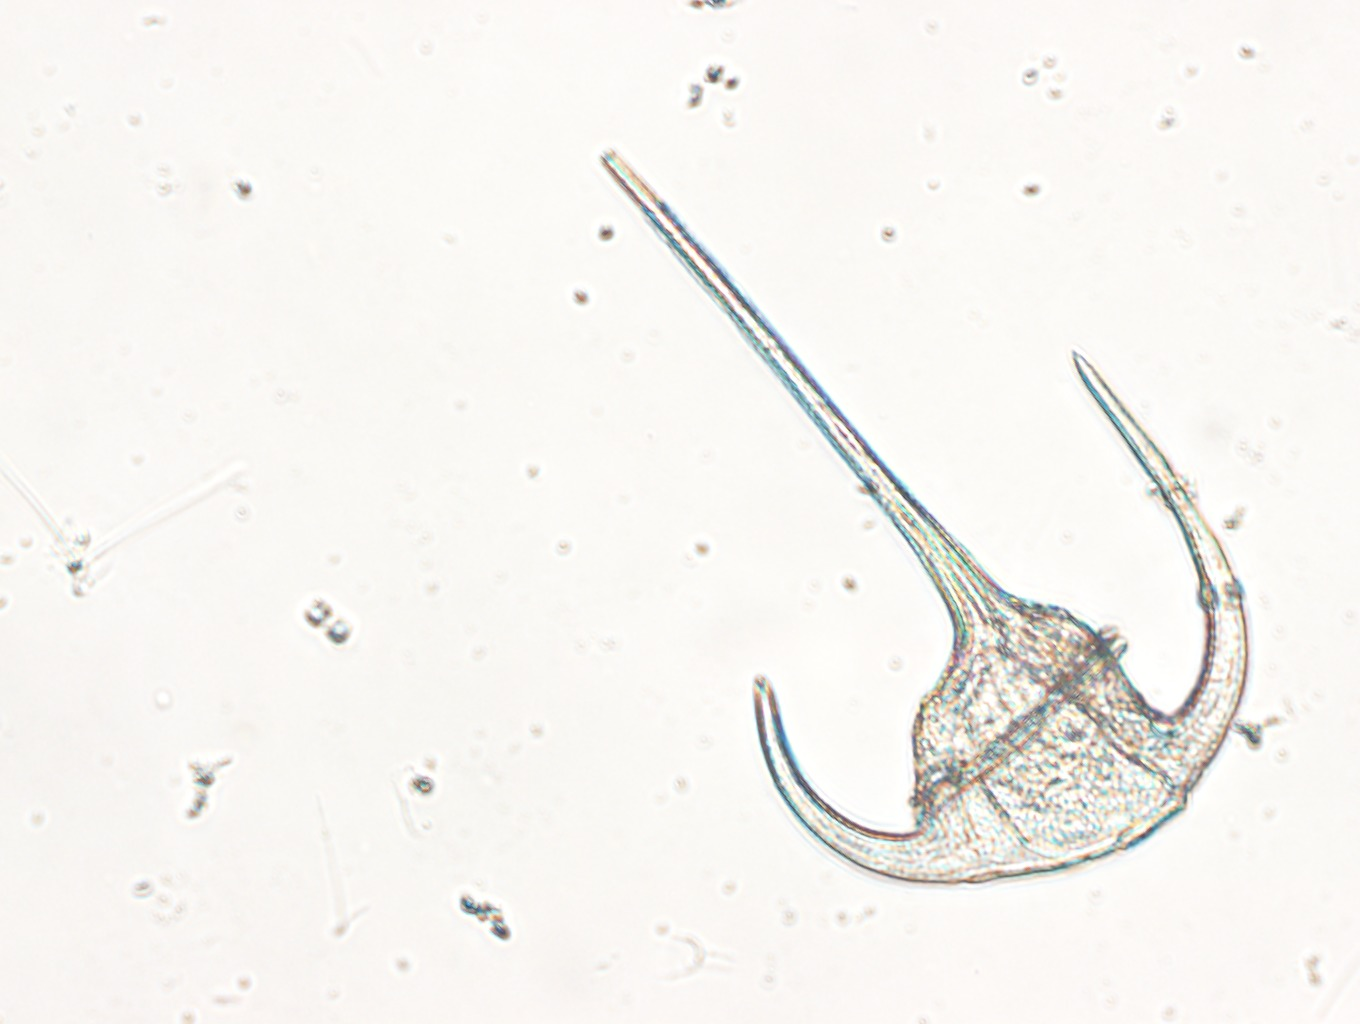ceratium tripos: (585, 139, 1252, 888)
